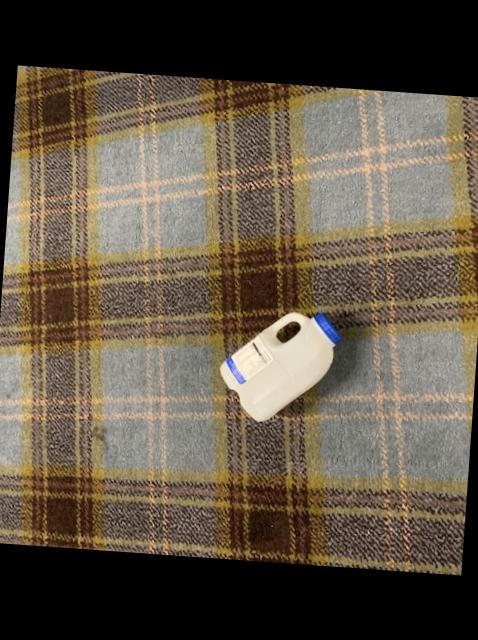plastic: (217, 312, 337, 419)
